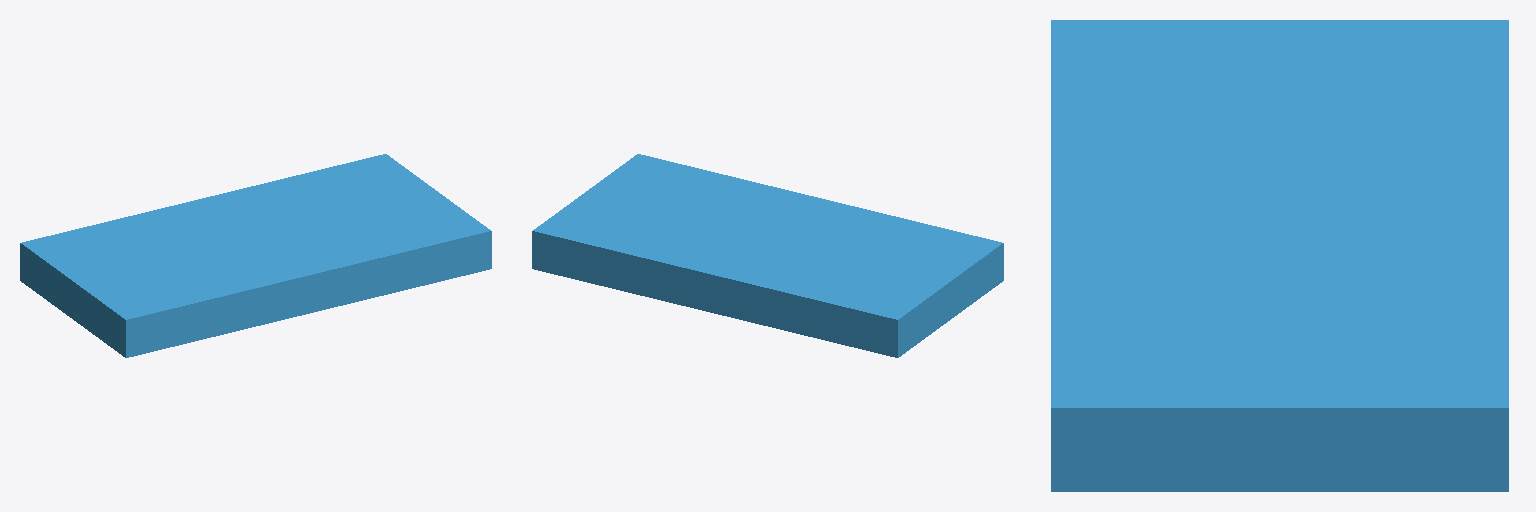
robot.urdf — single_sensor:
<?xml version="1.0"?>
<robot name="single_sensor">
    <link name="platform"></link>
    <joint name="sensor_height" type="prismatic">
        <parent link="platform"/>
        <child link="sensor"/>
        <axis xyz="0 0 1"/>
        <limit lower="0.0" upper="0.1" velocity="0.5" effort="1000.0"/>
        <origin xyz="0 0 0" rpy="0 0 0"/>
    </joint>
    <link name="sensor">
        <visual>
            <origin xyz="0.0 0.0 0.009" rpy="0.0 0.0 0.0"/>
            <geometry>
                <box size="0.01 0.005 0.001"/>
            </geometry>
        </visual>
    </link>
</robot>

--- Render facts (derived) ---
Views: 3 orthographic renders of the robot side by side, from view 1: azimuth 30°, elevation 25°; view 2: azimuth 150°, elevation 25°; view 3: azimuth 270°, elevation 25°.
Robot: single_sensor — 2 links, 1 joints (1 prismatic); root link platform; default pose: all joints at 0.
Visible links, largest first — view 1: sensor; view 2: sensor; view 3: sensor.
Boxes of the visible links, x1=… form: sensor: x1=20, y1=154, x2=491, y2=357; sensor: x1=532, y1=154, x2=1003, y2=357; sensor: x1=1051, y1=20, x2=1508, y2=491.
Bounding box of the posed robot: 0.01 × 0.005 × 0.001 m (x, y, z).
Geometry: primitives only (box / cylinder / sphere), no mesh files.